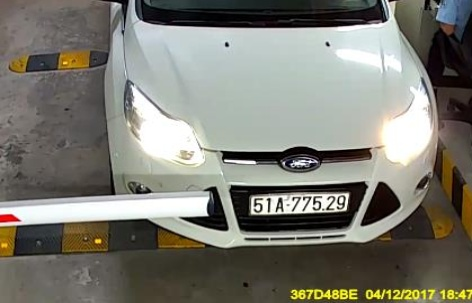plate: (245, 190, 357, 217)
